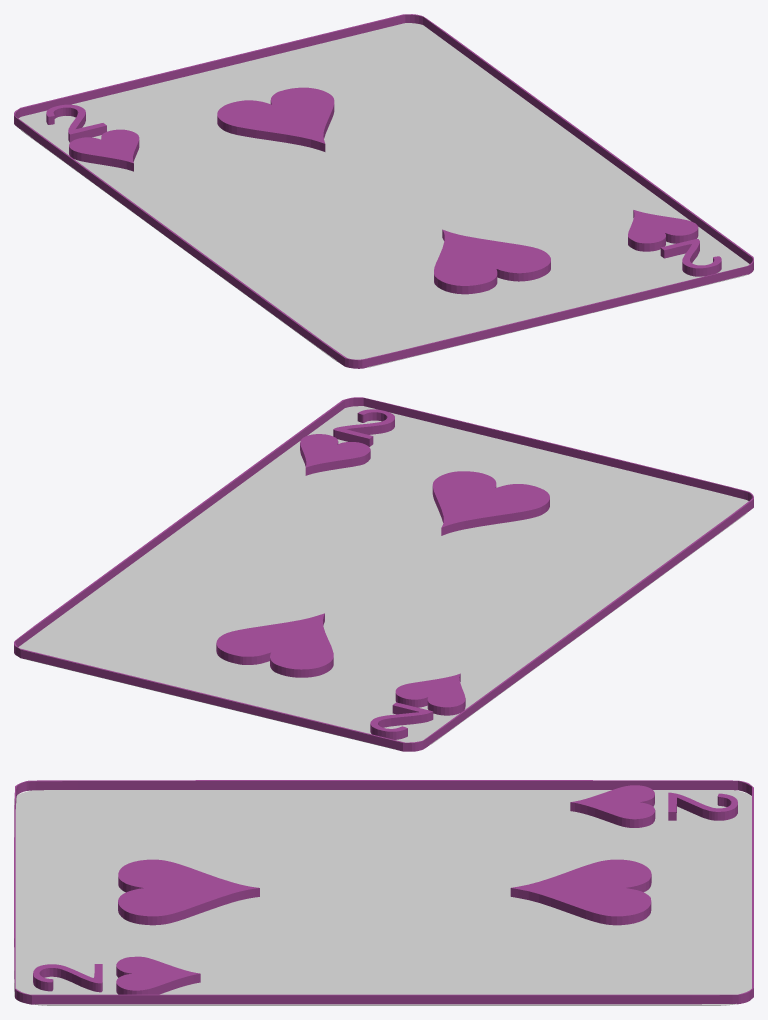
The model's file is 2_hearts.glb.
3 views of the same model, one above another, from view 1: azimuth 30°, elevation 25°; view 2: azimuth 150°, elevation 25°; view 3: azimuth 270°, elevation 25° (orthographic). The views are drawn at different scales.
Parts seen in each view (by area): view 1: Mesh_Mesh_head_geo.001_lambert2SG.001; view 2: Mesh_Mesh_head_geo.001_lambert2SG.001; view 3: Mesh_Mesh_head_geo.001_lambert2SG.001.
Boxes of the visible parts, box(x1,y1,x2,y2) form: Mesh_Mesh_head_geo.001_lambert2SG.001: box(14, 14, 753, 368); Mesh_Mesh_head_geo.001_lambert2SG.001: box(14, 397, 753, 751); Mesh_Mesh_head_geo.001_lambert2SG.001: box(14, 780, 753, 1005).
Size of the model in its own units: 2.25 by 0.045 by 3.25.
